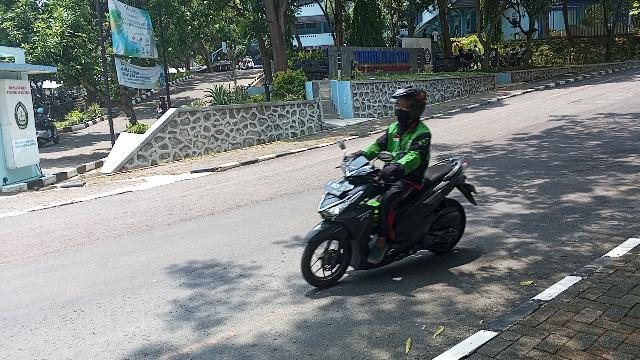helm: (389, 86, 429, 125)
motor: (300, 139, 480, 292)
